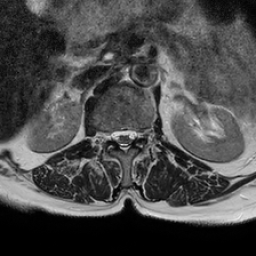CCS_normal: (120, 123, 128, 157)
LFS_normal: (137, 121, 145, 146)
LLS_normal: (128, 121, 137, 149)
RFS_normal: (102, 123, 110, 147)
RLS_normal: (110, 122, 120, 149)
